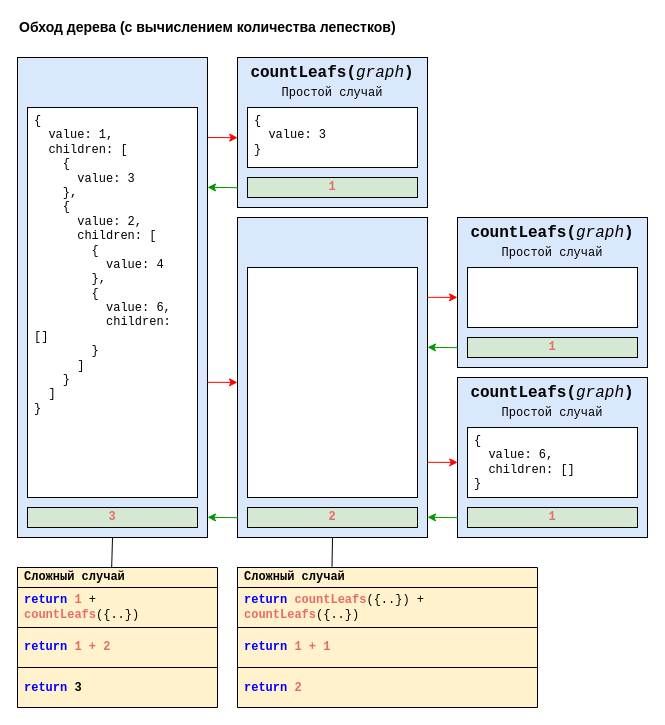
Image size: 665x725. Some labels were removed from this diagram. The box of each missing label's shape, as (x1, y1, x2, y2) in pixels:
countLeafs ( graph ) Сложный случай: (236, 216, 428, 538)
countLeafs( graph ) Сложный случай: (16, 56, 208, 538)
{ value: 2, children: [ { value: 4 }, { value: 6, children: [] } ] }: (246, 266, 418, 498)
{ value: 4 }: (466, 266, 638, 328)
